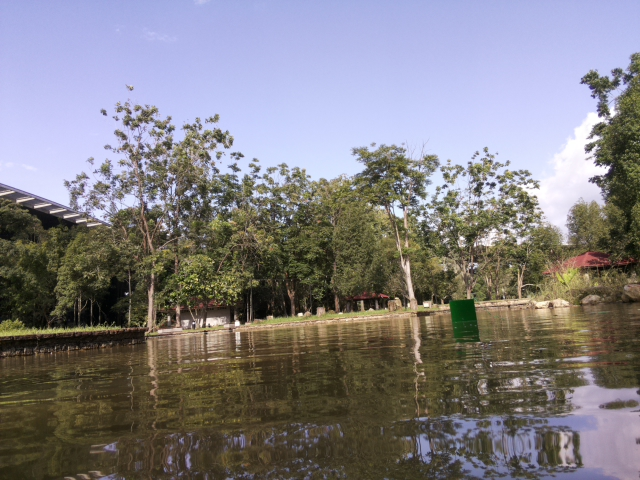obstacle: (449, 297, 478, 323)
